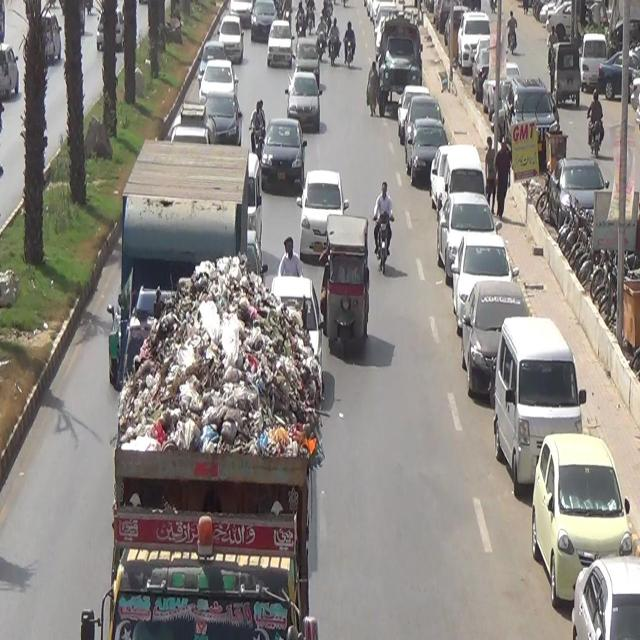car: (490, 312, 586, 504), (531, 429, 626, 601), (464, 279, 532, 419), (436, 190, 505, 280), (452, 232, 514, 332), (571, 555, 640, 640), (296, 168, 346, 262), (270, 272, 322, 357), (262, 117, 304, 196), (440, 140, 486, 202), (412, 120, 451, 191), (286, 71, 322, 130), (204, 95, 244, 148), (201, 56, 237, 110), (266, 16, 294, 70), (403, 94, 441, 133), (219, 7, 245, 58), (252, 0, 278, 48), (294, 35, 320, 71)
motorbike: (370, 174, 404, 279), (250, 96, 268, 158), (330, 18, 343, 72), (343, 20, 354, 73), (317, 12, 329, 58), (297, 4, 309, 31)
truck: (78, 251, 335, 640), (126, 131, 253, 344), (371, 13, 424, 110)
